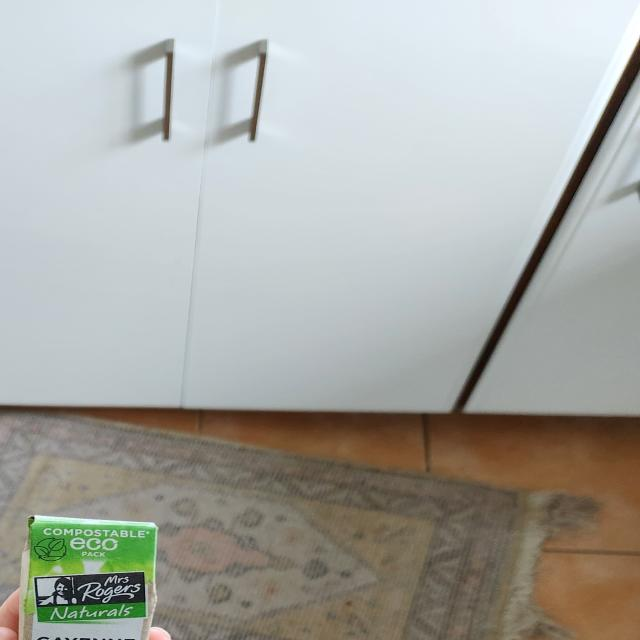cayenne pepper: (17, 512, 158, 640)
